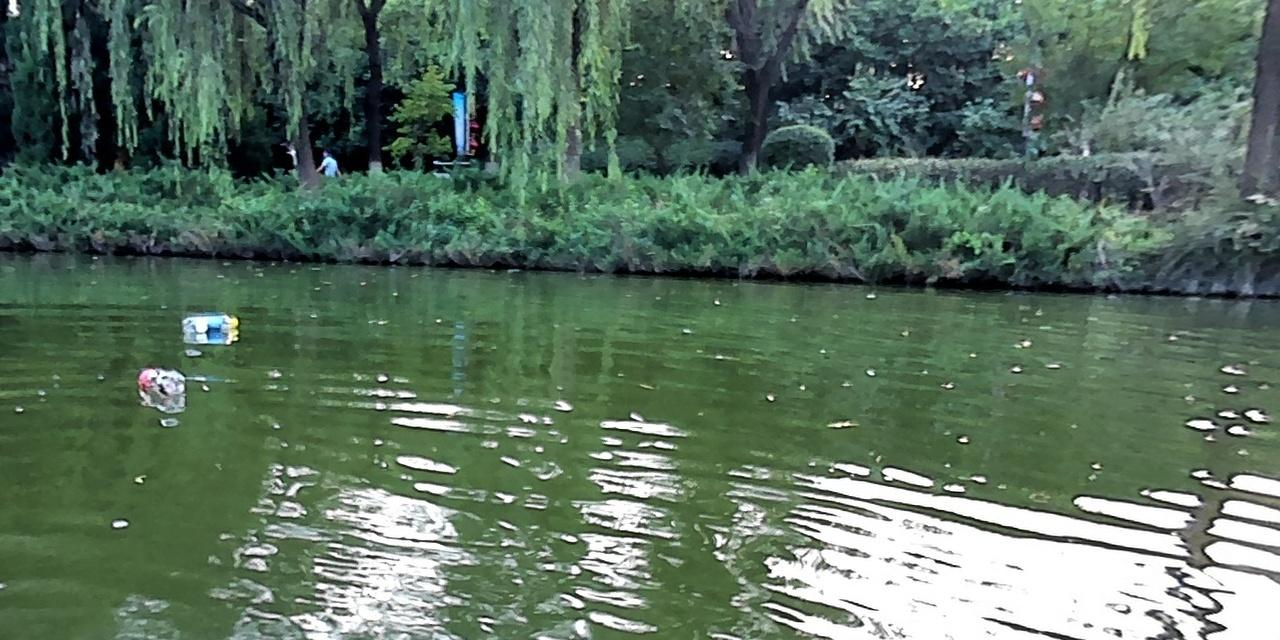bottle: (137, 366, 181, 398), (180, 312, 237, 334)
